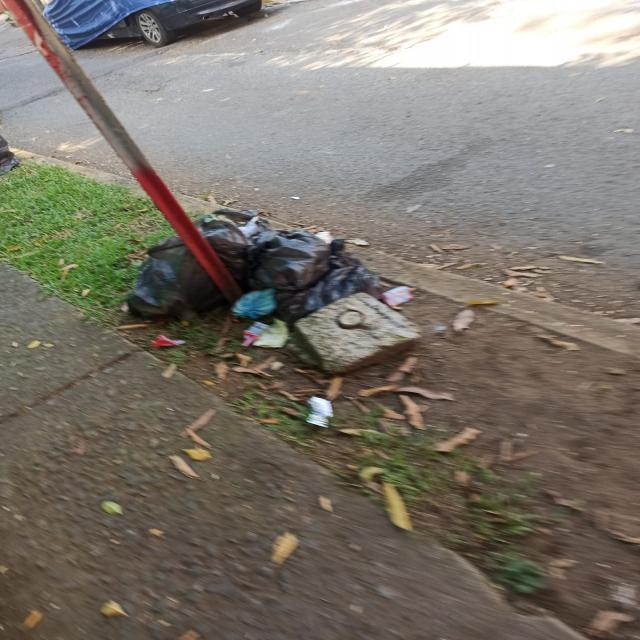Trashbag: (206, 208, 332, 290), (122, 245, 226, 339), (272, 278, 398, 302)
